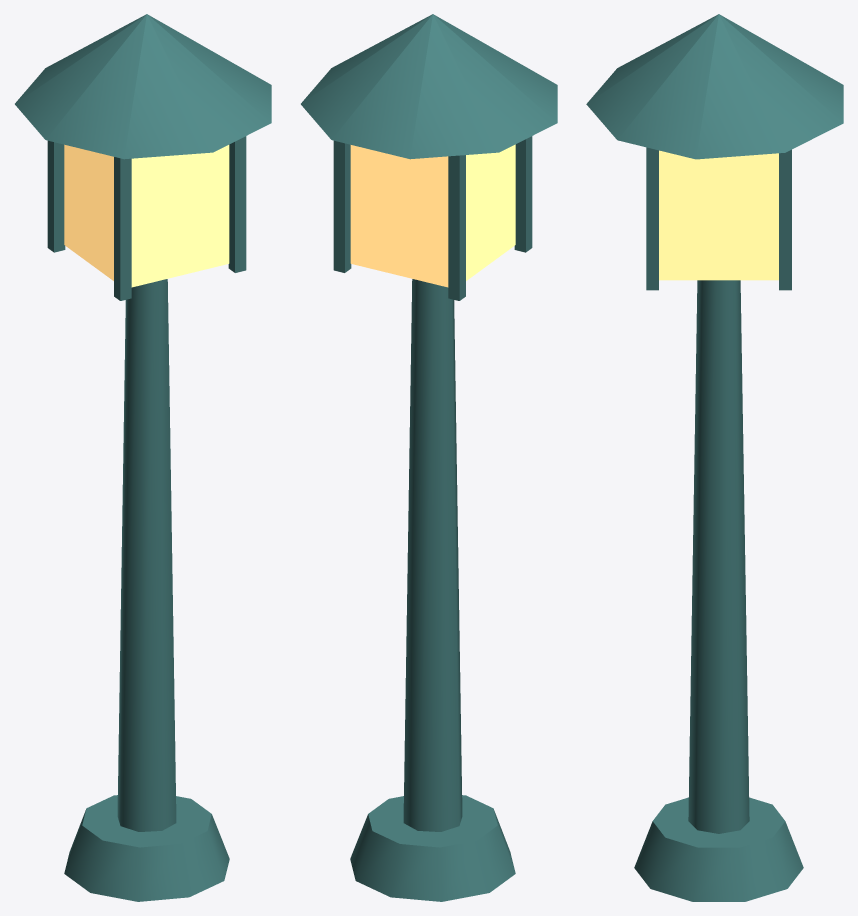
File: lamp.glb
The picture shows the model from 3 angles, left to right: view 1: azimuth 30°, elevation 25°; view 2: azimuth 150°, elevation 25°; view 3: azimuth 270°, elevation 25°; orthographic projection.
Parts seen in each view (by area): view 1: surface_#4b8584, surface_lantern_glow; view 2: surface_#4b8584, surface_lantern_glow; view 3: surface_#4b8584, surface_lantern_glow.
Boxes of the visible parts, x1=… form: surface_#4b8584: x1=15, y1=14, x2=271, y2=901; surface_lantern_glow: x1=64, y1=144, x2=229, y2=287; surface_#4b8584: x1=301, y1=14, x2=557, y2=901; surface_lantern_glow: x1=350, y1=144, x2=515, y2=287; surface_#4b8584: x1=586, y1=14, x2=843, y2=901; surface_lantern_glow: x1=659, y1=150, x2=778, y2=280.
Size of the model in its own units: 0.7091 by 2.56 by 0.6983.
